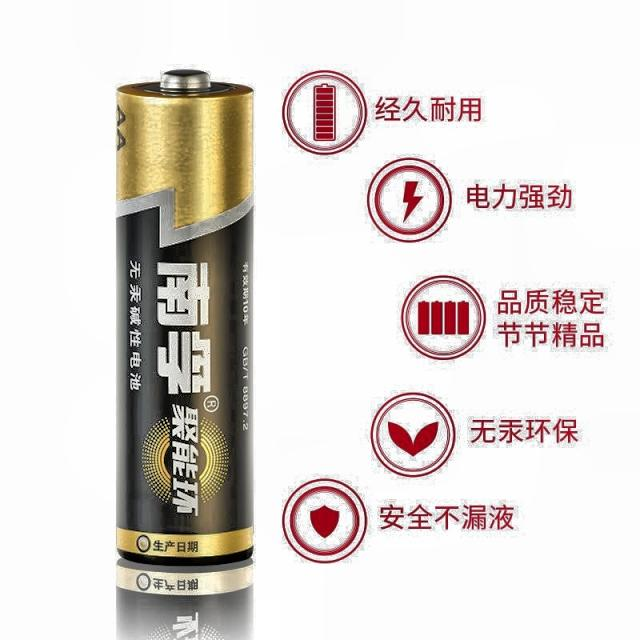Non-Valuable Waste - Batteries: (116, 70, 252, 564)
